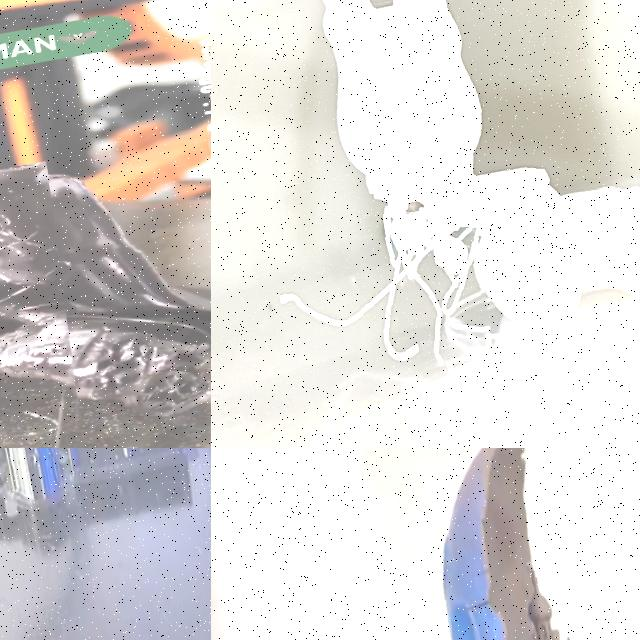spaghetti: (280, 202, 478, 367), (0, 160, 105, 448)
